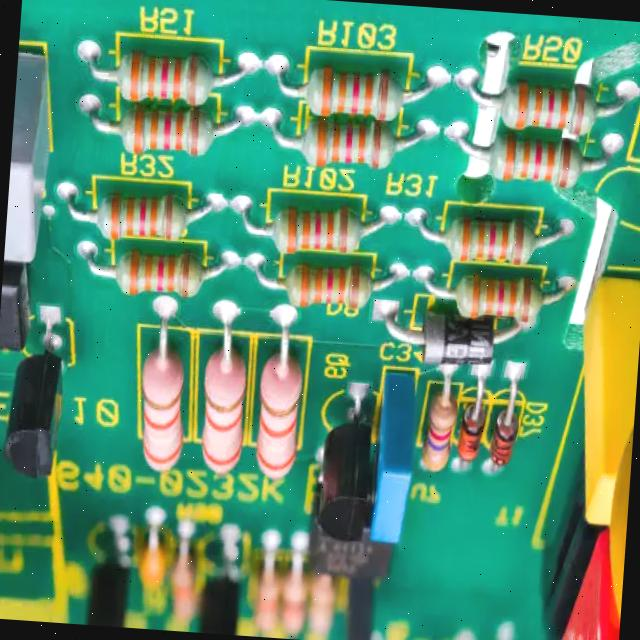diode: (412, 304, 502, 374)
resistor: (100, 29, 234, 108), (290, 108, 418, 179), (89, 176, 205, 250), (198, 348, 260, 484), (286, 61, 416, 120), (494, 72, 608, 138), (479, 125, 588, 193), (444, 203, 544, 271), (252, 354, 308, 474), (454, 264, 560, 326), (268, 198, 370, 262), (136, 347, 188, 471), (105, 245, 208, 306), (120, 97, 212, 165), (278, 259, 378, 316), (420, 384, 457, 479)
transistor: (0, 308, 80, 483), (306, 382, 378, 549)
